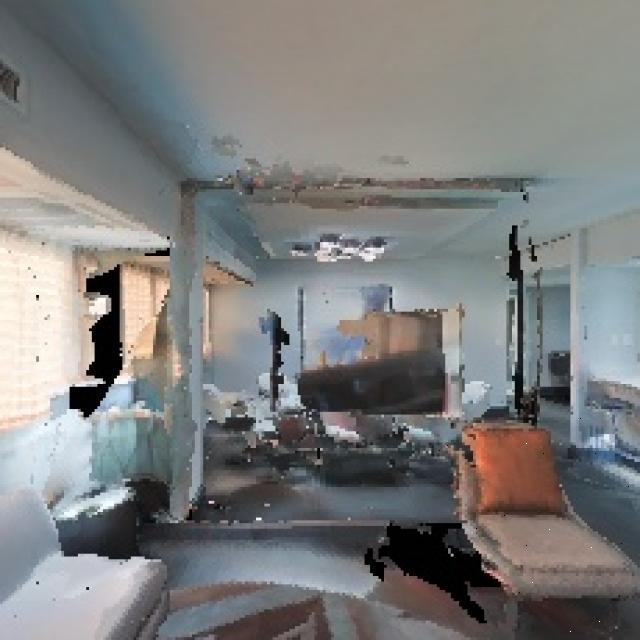sofa: (423, 395, 640, 640)
